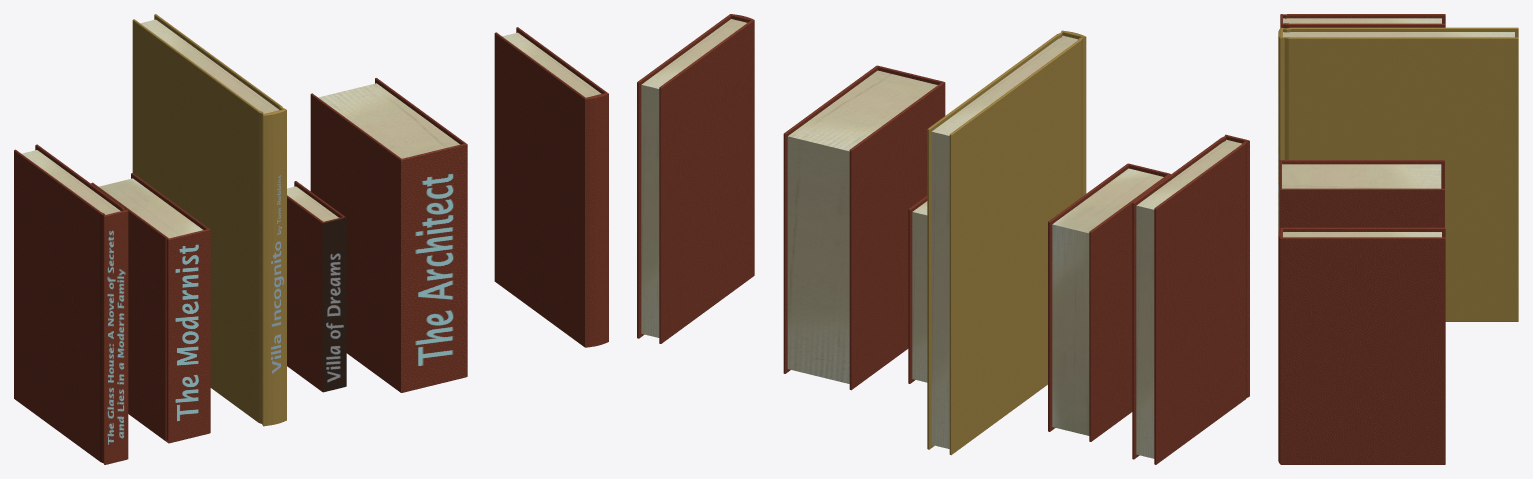
File: mv_Books.fbx
The picture shows the model from 3 angles, left to right: view 1: azimuth 30°, elevation 25°; view 2: azimuth 150°, elevation 25°; view 3: azimuth 270°, elevation 25°; orthographic projection. The views are drawn at different scales.
Visible parts, largest first — view 1: mv_bookC, mv_bookE, mv_bookF, mv_bookA, mv_bookB, mv_bookD; view 2: mv_bookC, mv_bookE, mv_bookF, mv_bookA, mv_bookB, mv_bookD; view 3: mv_bookC, mv_bookF, mv_bookE, mv_bookA.
Part boxes in pixels (bbox=[...]): mv_bookC: bbox=[132, 14, 286, 426]; mv_bookE: bbox=[310, 78, 467, 392]; mv_bookF: bbox=[494, 27, 608, 347]; mv_bookA: bbox=[14, 144, 128, 464]; mv_bookB: bbox=[91, 173, 210, 443]; mv_bookD: bbox=[287, 181, 346, 392]; mv_bookC: bbox=[927, 30, 1086, 455]; mv_bookE: bbox=[783, 65, 945, 390]; mv_bookF: bbox=[637, 14, 754, 343]; mv_bookA: bbox=[1132, 134, 1249, 464]; mv_bookB: bbox=[1048, 163, 1170, 441]; mv_bookD: bbox=[908, 195, 927, 383]; mv_bookC: bbox=[1278, 27, 1518, 321]; mv_bookF: bbox=[1278, 227, 1445, 464]; mv_bookE: bbox=[1279, 160, 1444, 228]; mv_bookA: bbox=[1280, 14, 1445, 28].
Bounding box in the file's own units: 63.54 × 37.5 × 28.8.
